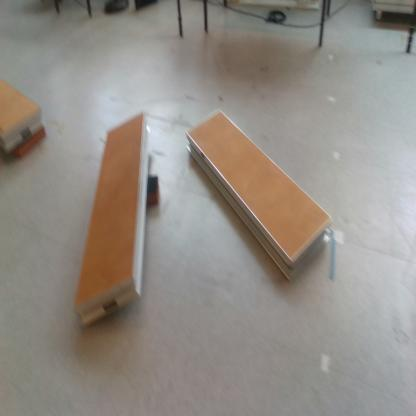Stairs: (186, 107, 334, 284), (75, 112, 152, 329), (1, 78, 45, 156)
